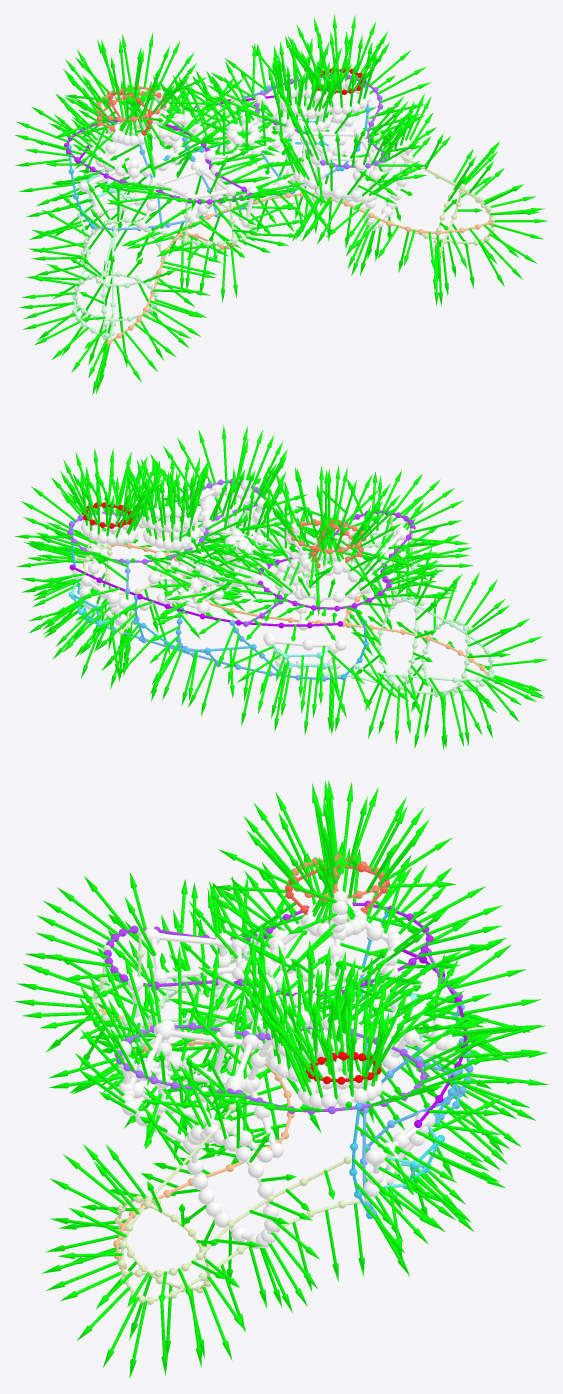
The model's file is author2_gamepad.gltf.
3 renders of one model, top to bottom at view 1: azimuth 30°, elevation 25°; view 2: azimuth 150°, elevation 25°; view 3: azimuth 270°, elevation 25°, orthographic. The views are drawn at different scales.
Bounding box in the file's own units: 1.01 × 0.5509 × 0.659.
